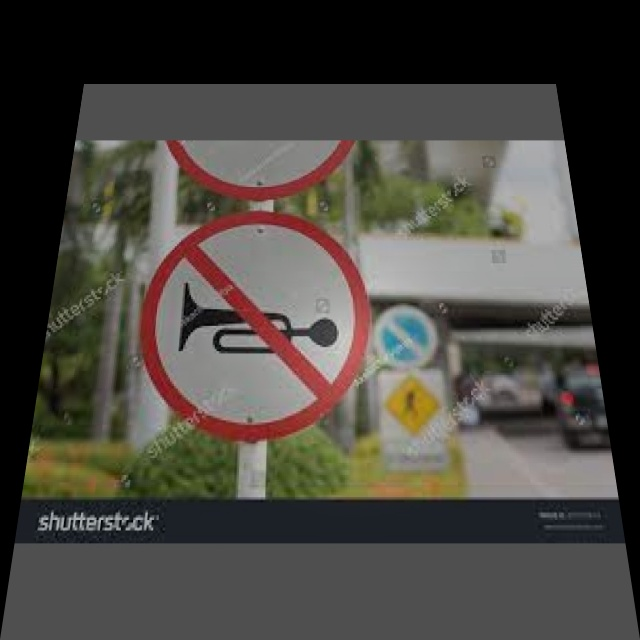Horn_Prohibited: (145, 215, 361, 433)
